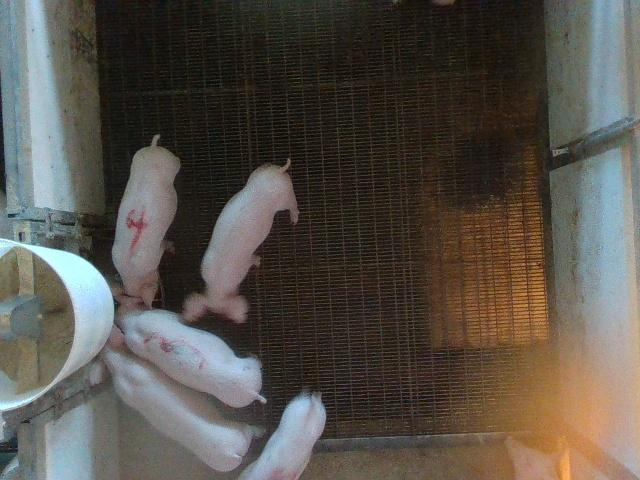pig-4: (116, 291, 266, 407), (112, 138, 180, 307)
